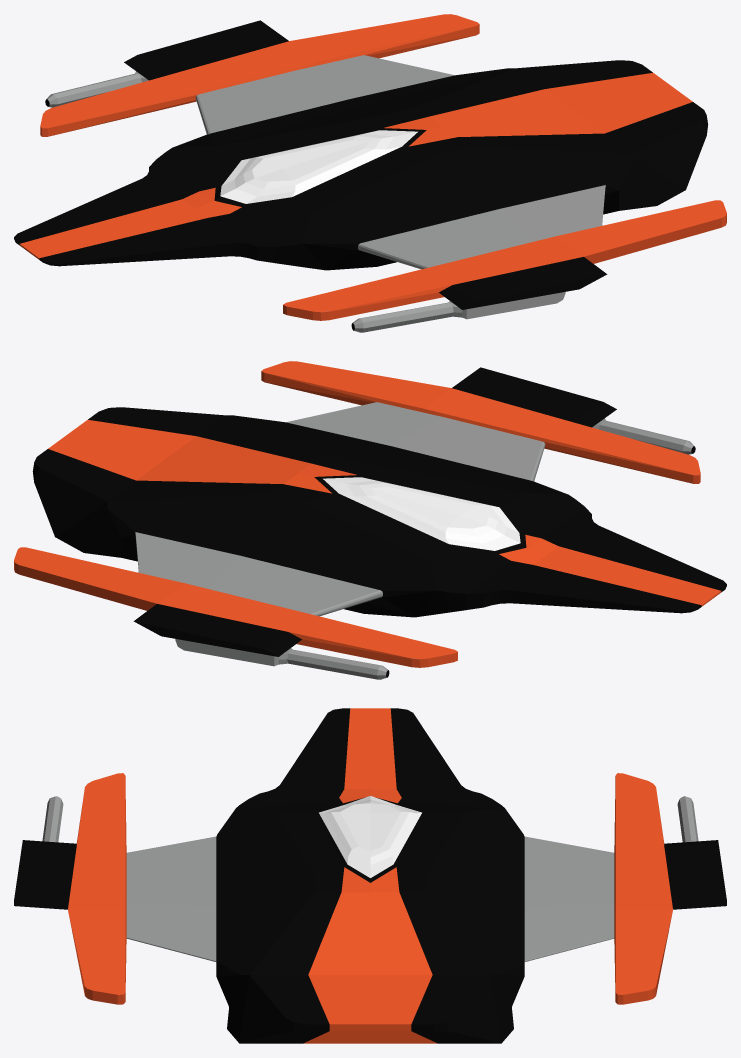
Rendered from Enemy1.fbx.
3 views of the same model, one above another, from view 1: azimuth 30°, elevation 25°; view 2: azimuth 150°, elevation 25°; view 3: azimuth 270°, elevation 25° (orthographic). The views are drawn at different scales.
Visible parts, largest first — view 1: Cube; view 2: Cube; view 3: Cube.
Boxes of the visible parts, bbox=[...] form: Cube: bbox=[14, 14, 726, 332]; Cube: bbox=[14, 361, 726, 679]; Cube: bbox=[14, 708, 726, 1043].
Size of the model in its own units: 498 by 49.38 by 465.
